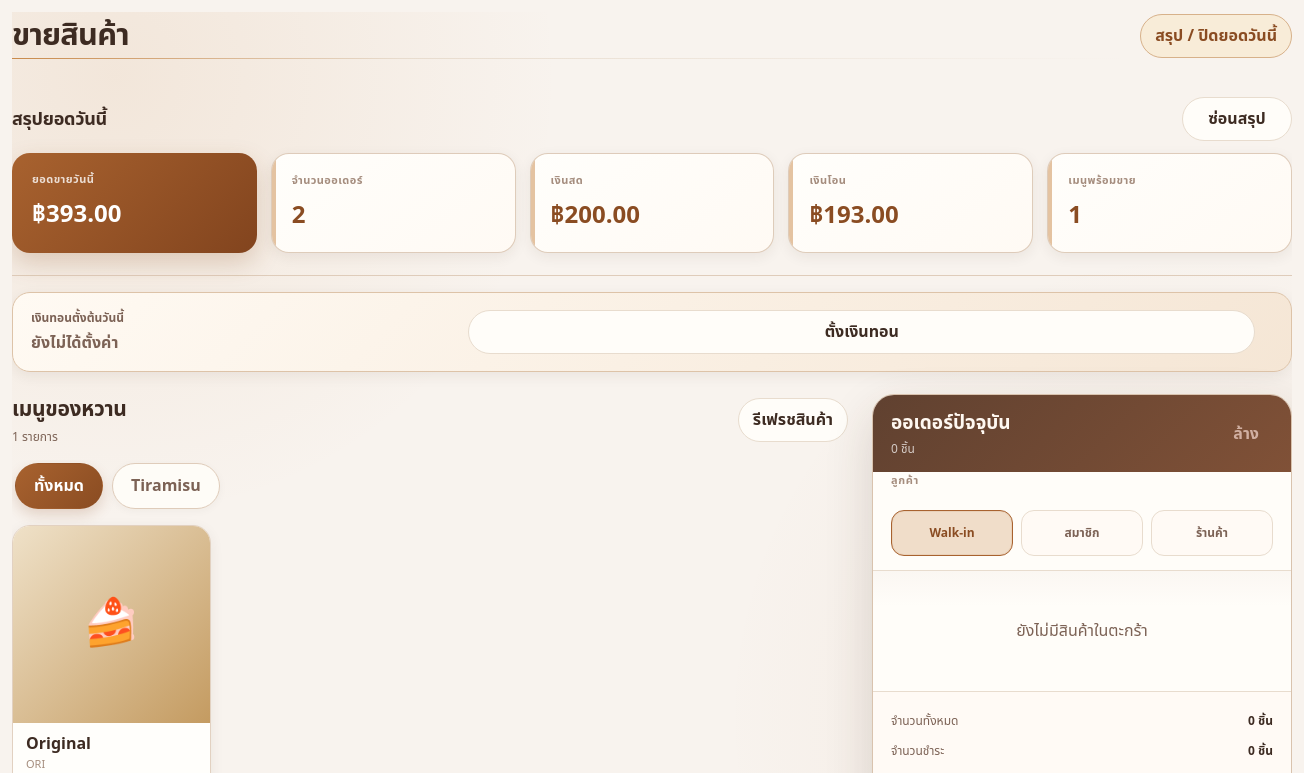
Sell close-day workflow › shows a preview failure without opening a report or sending a POST
Click the button "สรุป / ปิดยอดวันนี้" at [1216, 36], box [1140, 14, 1292, 58]
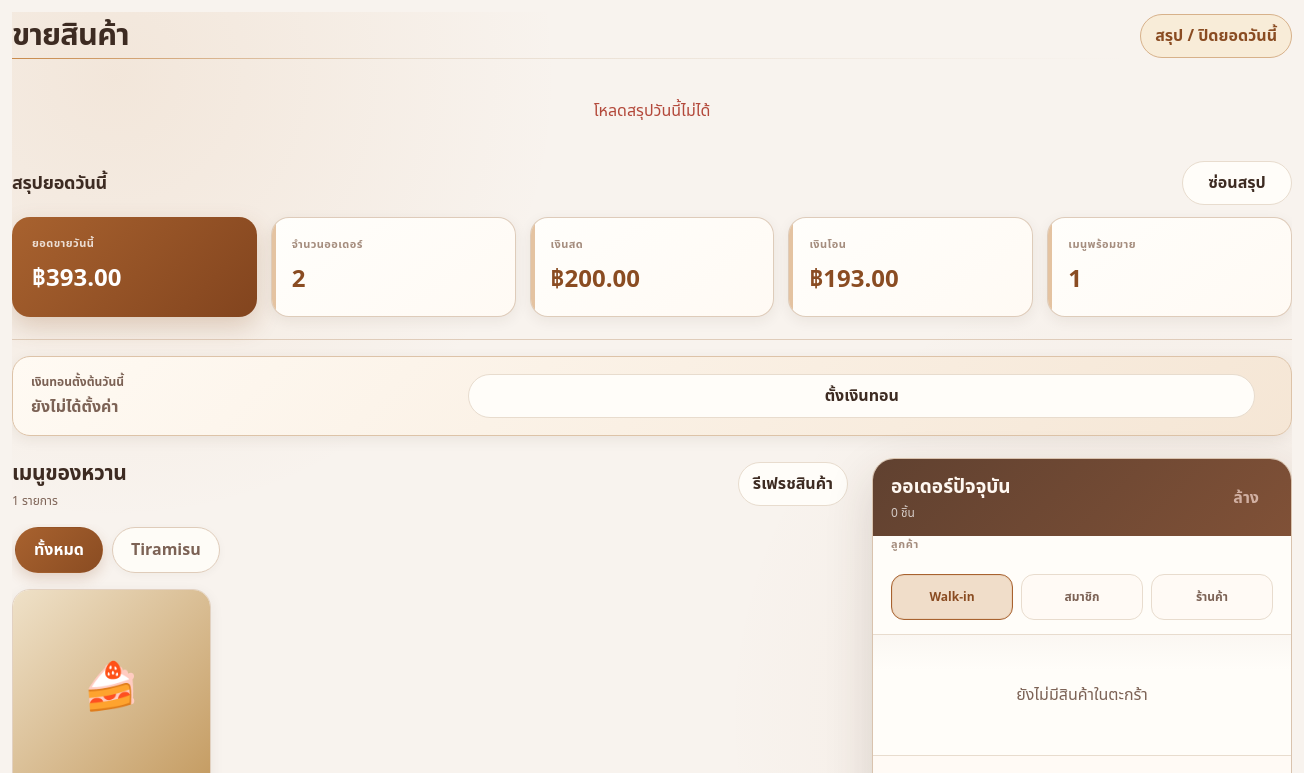
Expected: the message reads "โหลดสรุปวันนี้ไม่ได้", [594, 99, 710, 123]
